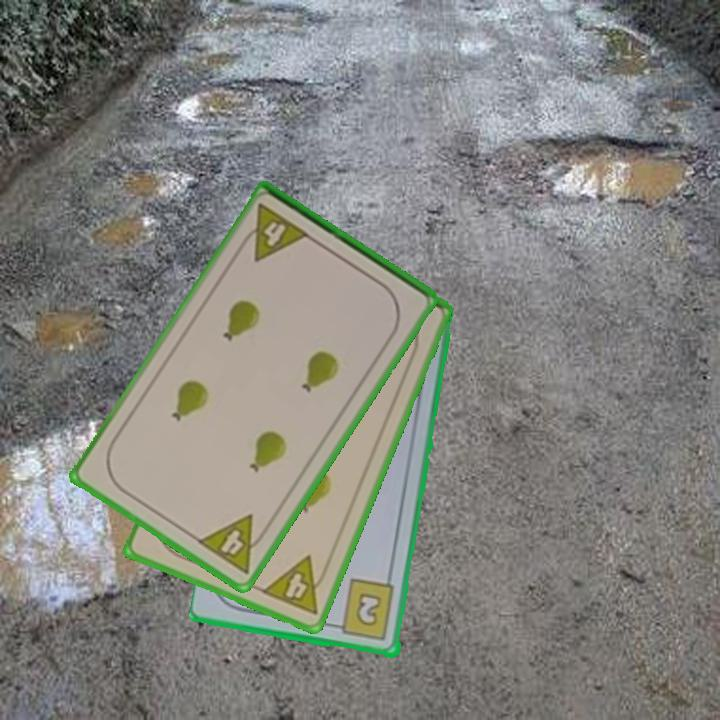2b: (329, 577, 398, 644)
4p: (193, 511, 273, 578), (235, 200, 313, 265), (257, 552, 333, 618)
